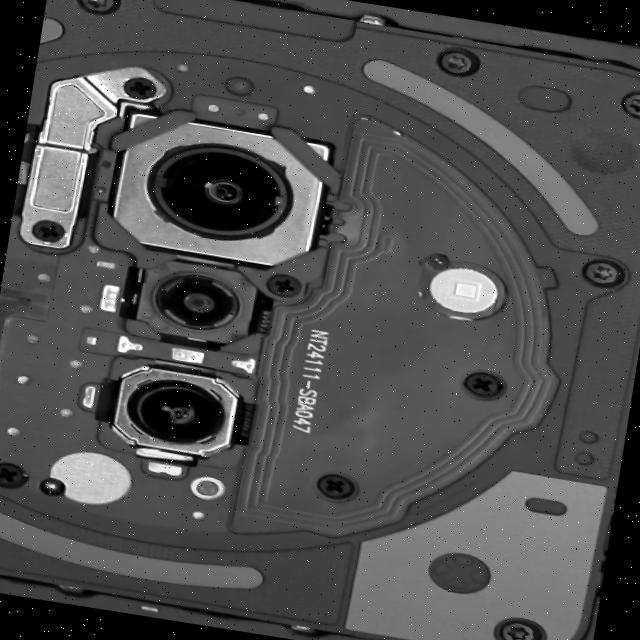Torx: (581, 258, 627, 290), (436, 46, 480, 78), (492, 615, 548, 640), (75, 0, 122, 16), (620, 89, 640, 121)
